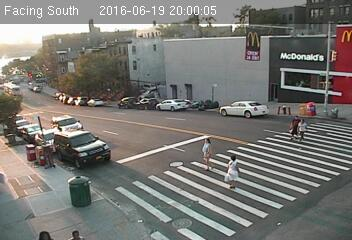neg: (307, 65, 332, 98), (230, 65, 252, 94), (119, 84, 138, 110), (172, 80, 191, 105), (269, 97, 282, 113)
pos: (221, 152, 248, 188), (193, 136, 220, 171), (291, 115, 315, 147)
